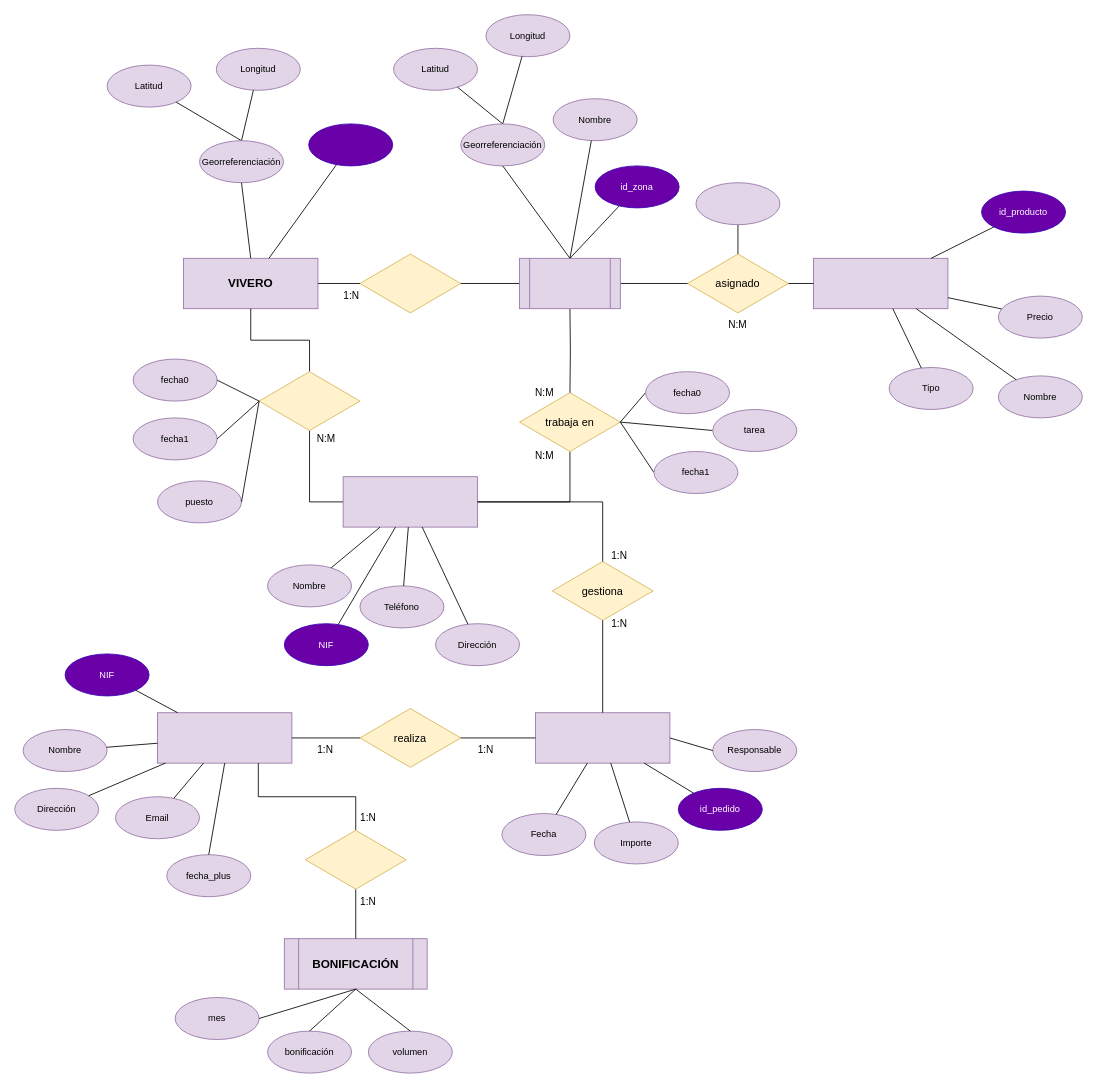
Image size: 1097x1088. Some labels were removed from this diagram. Here are the shapes that lost their labels. From the top down, the centre of each, then its label:
At (x=350, y=144): "id_viviero".
At (x=737, y=203): "cantidad".
At (x=410, y=283): "tiene".
At (x=569, y=283): "ZONA".
At (x=880, y=283): "PRODUCTO".
At (x=309, y=400): "destinado en".
At (x=410, y=501): "EMPLEADO".
At (x=224, y=737): "CLIENTE".
At (x=602, y=737): "PEDIDO".
At (x=355, y=859): "recibe".
